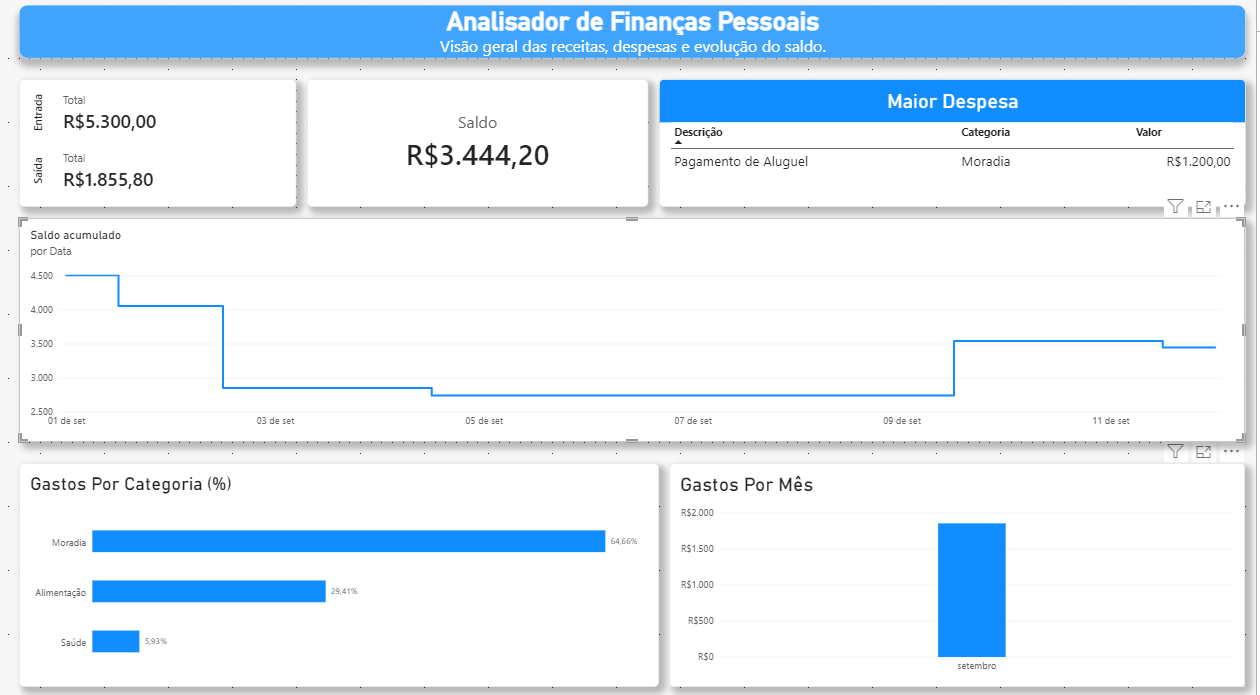

What the dashboard file says about the page in this screenshot:
{"tool":"powerbi","page":{"name":"Página 1","canvas":[1920,1080],"ordinal":0},"visuals":[{"type":"cardVisual","fields":{"Data":["Sum(transacoes.valor)"],"Rows":["transacoes.tipo"]},"box":[64,128,416,192],"z":0},{"type":"cardVisual","fields":{"Data":["transacoes.saldo"]},"box":[496,128,512,192],"z":1000},{"type":"clusteredBarChart","title":"Gastos Por Categoria (%)","fields":{"Category":["transacoes.categoria"],"Y":["Sum(transacoes.valor)"]},"box":[64,704,960,336],"z":2000},{"type":"clusteredColumnChart","title":"Gastos Por Mês","fields":{"Category":["Calendario.Date.Variation.Hierarquia de datas.Mês"],"Y":["Sum(transacoes.valor)"]},"box":[1040,704,864,336],"z":3000},{"type":"tableEx","title":"Maior Despesa","fields":{"Values":["transacoes.descricao","transacoes.categoria","Sum(transacoes.valor)"]},"box":[1024,128,880,192],"z":4000},{"type":"lineChart","fields":{"Category":["Calendario.Date"],"Y":["transacoes.Saldo acumulado"]},"box":[64,336,1840,336],"z":5000},{"type":"textbox","title":"Analisador de Finanças Pessoais","box":[64,16,1840,80],"z":6000}]}

Visuals, with their boxes in screenshot pixels (x1, y1, x2, y2), scaled from the page's 1920x1080 canvas onto the 1260x695 screenshot:
cardVisual - Sum(transacoes.valor) x transacoes.tipo: pyautogui.locateOnScreen(42, 82, 315, 206)
cardVisual - transacoes.saldo: pyautogui.locateOnScreen(326, 82, 662, 206)
"Gastos Por Categoria (%)" clusteredBarChart: pyautogui.locateOnScreen(42, 453, 672, 669)
"Gastos Por Mês" clusteredColumnChart: pyautogui.locateOnScreen(682, 453, 1250, 669)
"Maior Despesa" tableEx: pyautogui.locateOnScreen(672, 82, 1250, 206)
lineChart - Calendario.Date x transacoes.Saldo acumulado: pyautogui.locateOnScreen(42, 216, 1250, 432)
"Analisador de Finanças Pessoais" textbox: pyautogui.locateOnScreen(42, 10, 1250, 62)
